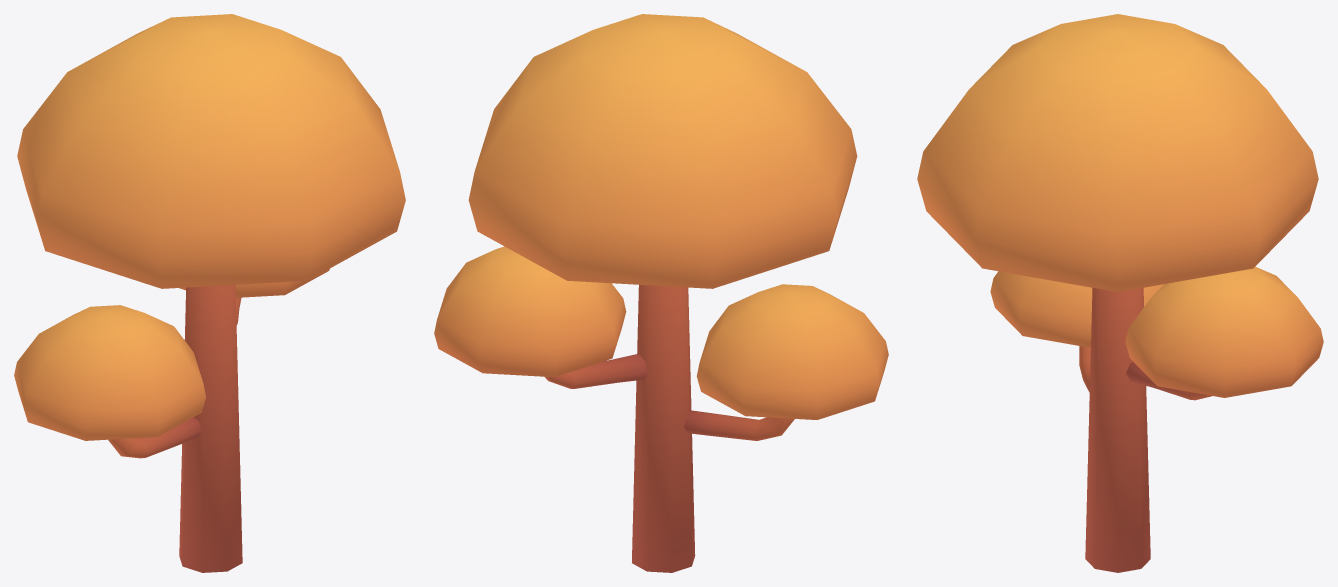
Rendered from Tree5_Yellow.glb.
3 views of the same model, side by side, from view 1: azimuth 30°, elevation 25°; view 2: azimuth 150°, elevation 25°; view 3: azimuth 270°, elevation 25° (orthographic).
Visible parts, largest first — view 1: Tree5_Yellow; view 2: Tree5_Yellow; view 3: Tree5_Yellow.
Part boxes in pixels (x1,y1,x2,y2): Tree5_Yellow: [14, 14, 405, 572]; Tree5_Yellow: [434, 14, 888, 572]; Tree5_Yellow: [917, 14, 1323, 572].
Size of the model in its own units: 2.85 by 3.82 by 2.68.
1 material, 1 textured.
